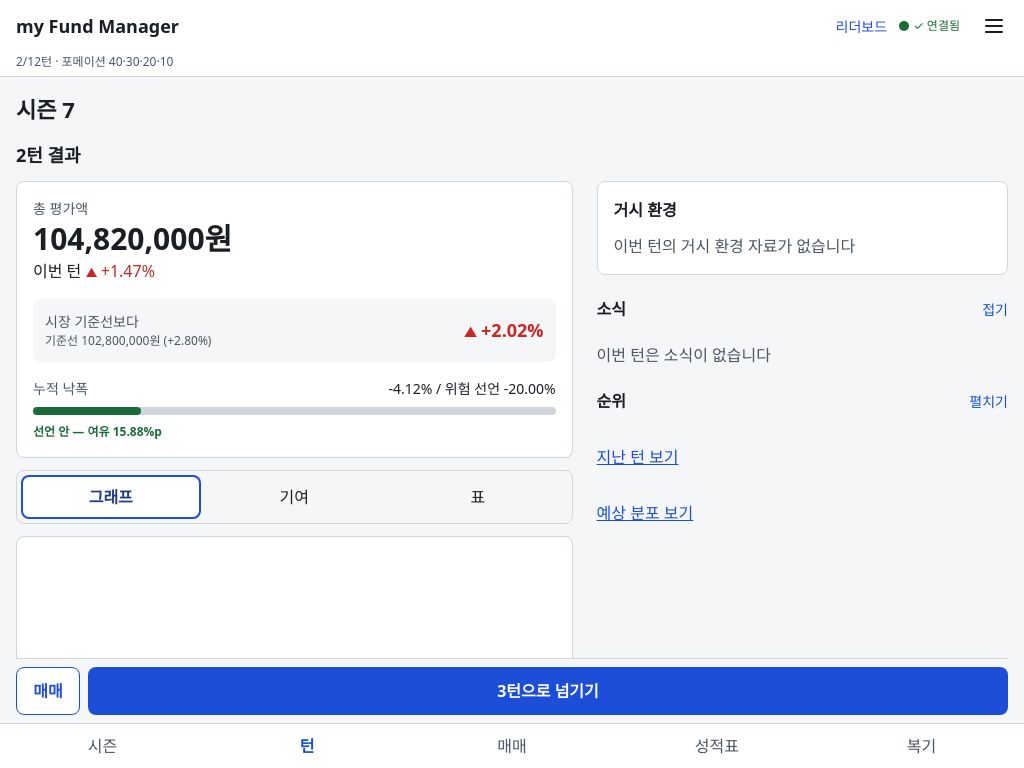
AppShell menu inside a season › adds the formation link and the abandon item for a season from turn 1
Expected: the heading "2턴 결과" is shown, x1=16 y1=143 x2=81 y2=167
Click the button named "메뉴".
click(994, 26)  # box x1=972 y1=4 x2=1016 y2=48
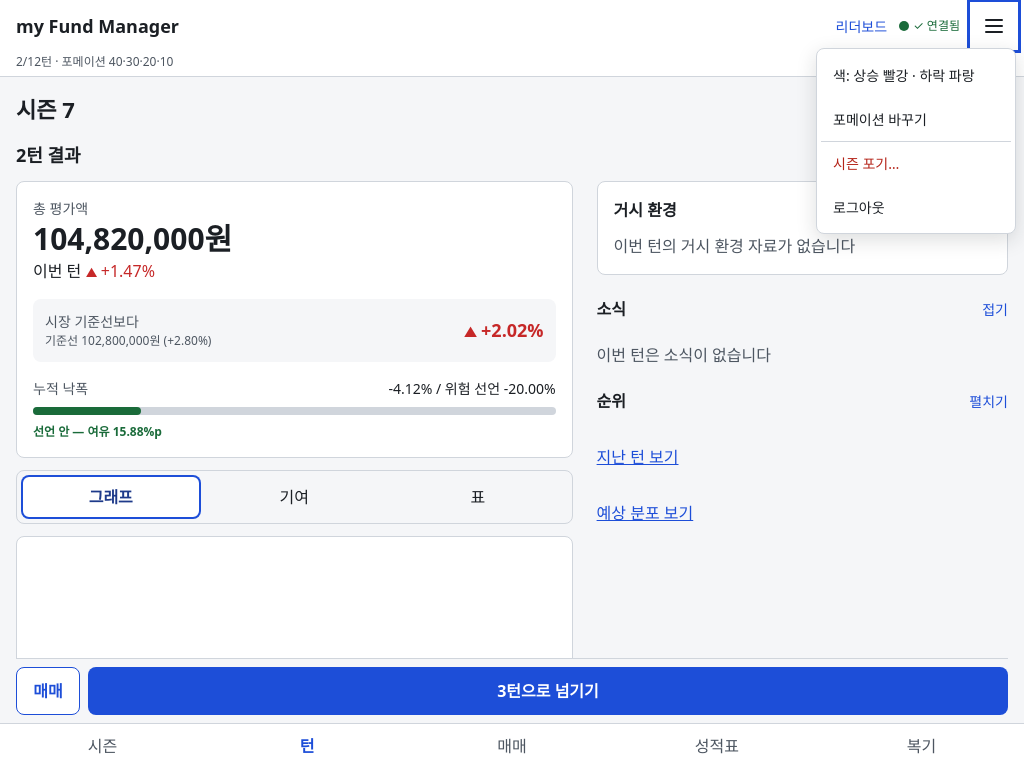
Now the button "시즌 포기…" is enabled, box x1=821 y1=141 x2=1011 y2=185
